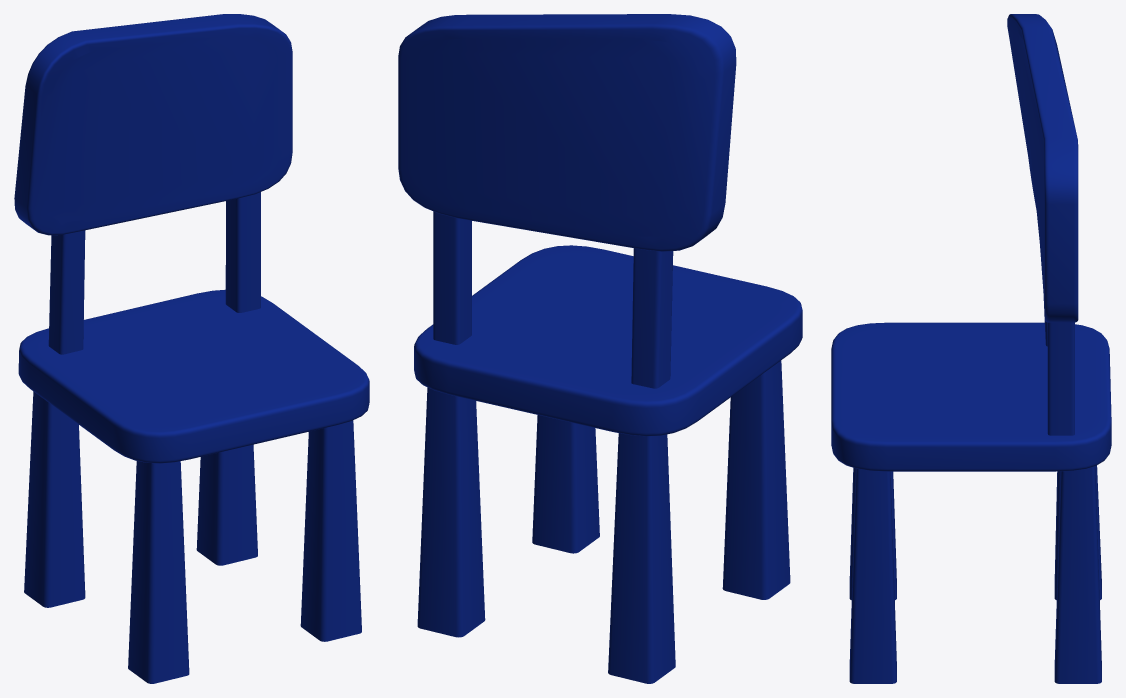
Rendered from Blue_Chair.fbx.
3 renders of one model, left to right at view 1: azimuth 30°, elevation 25°; view 2: azimuth 150°, elevation 25°; view 3: azimuth 270°, elevation 25°, orthographic. The views are drawn at different scales.
Parts seen in each view (by area): view 1: Play_Chair_Blue; view 2: Play_Chair_Blue; view 3: Play_Chair_Blue.
Boxes of the visible parts, box(x1,y1,x2,y2) form: Play_Chair_Blue: box(14, 14, 369, 683); Play_Chair_Blue: box(398, 14, 802, 683); Play_Chair_Blue: box(831, 14, 1111, 683).
Bounding box in the file's own units: 11.86 × 23.75 × 10.66.
